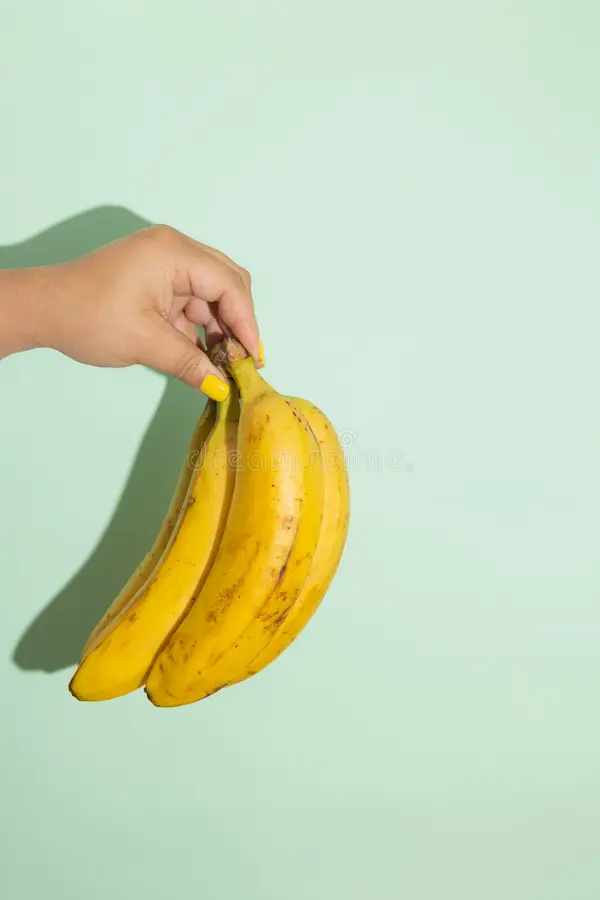banana: (55, 354, 356, 709)
